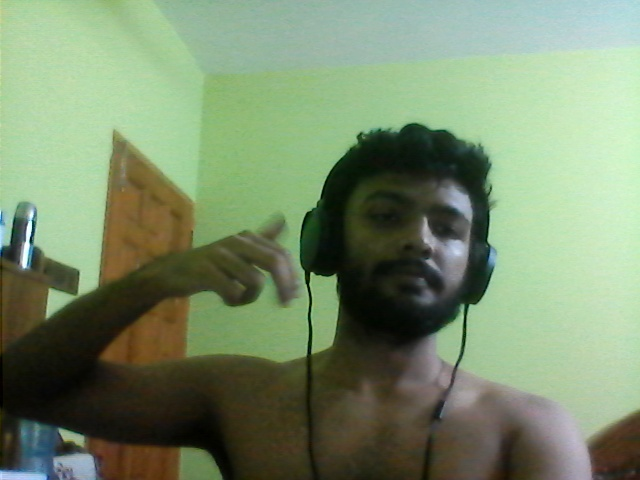I: (185, 218, 317, 336)
